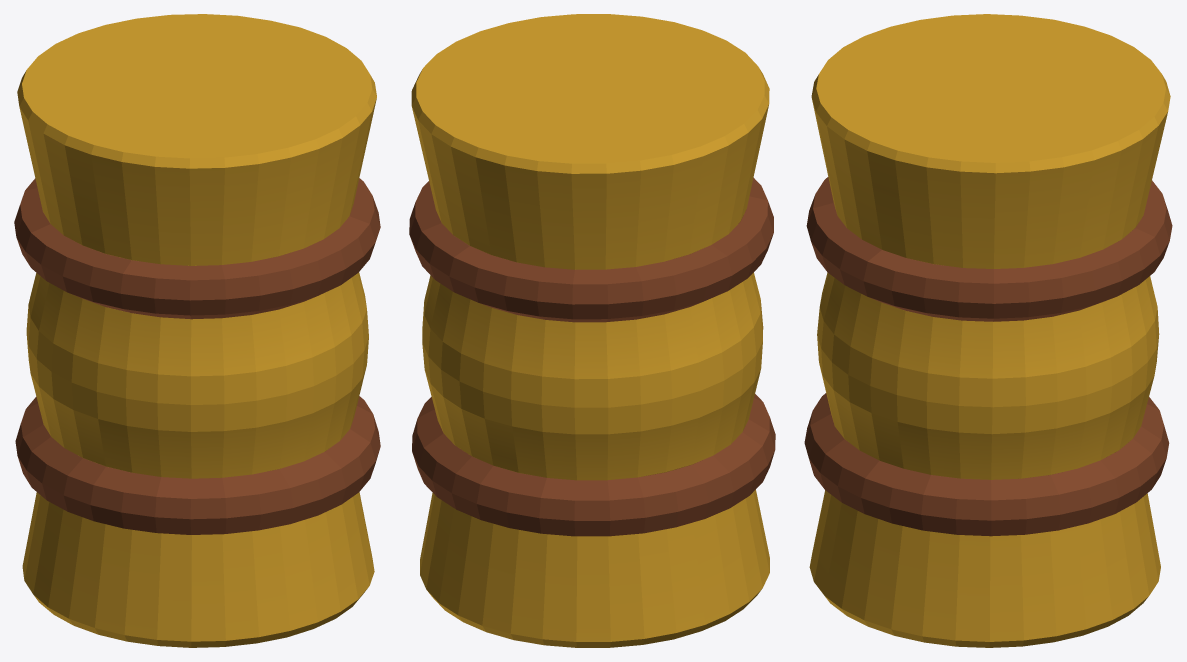
File: Hay_2.glb
The picture shows the model from 3 angles, left to right: view 1: azimuth 30°, elevation 25°; view 2: azimuth 150°, elevation 25°; view 3: azimuth 270°, elevation 25°; orthographic projection.
Visible parts, largest first — view 1: Hay bale 2; view 2: Hay bale 2; view 3: Hay bale 2.
Boxes of the visible parts, box(x1,y1,x2,y2) form: Hay bale 2: box(14, 14, 380, 647); Hay bale 2: box(409, 14, 775, 647); Hay bale 2: box(804, 14, 1172, 647).
Size of the model in its own units: 0.669 by 0.991 by 0.6723.
